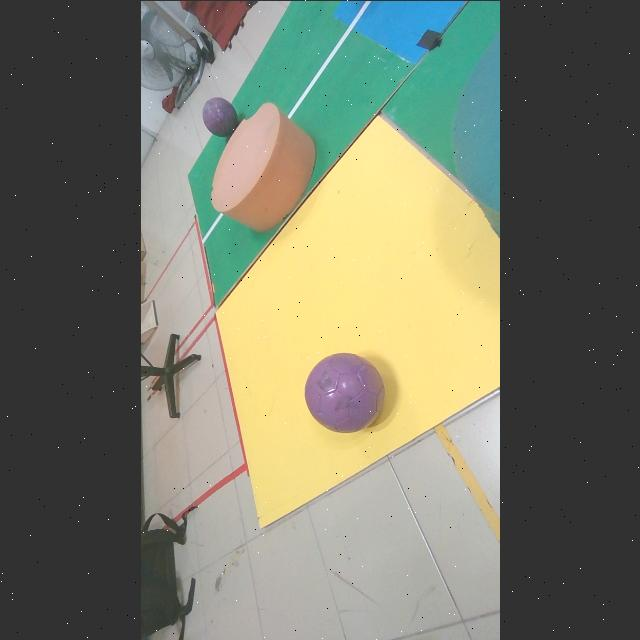P: (304, 352, 383, 432), (202, 97, 237, 137)
